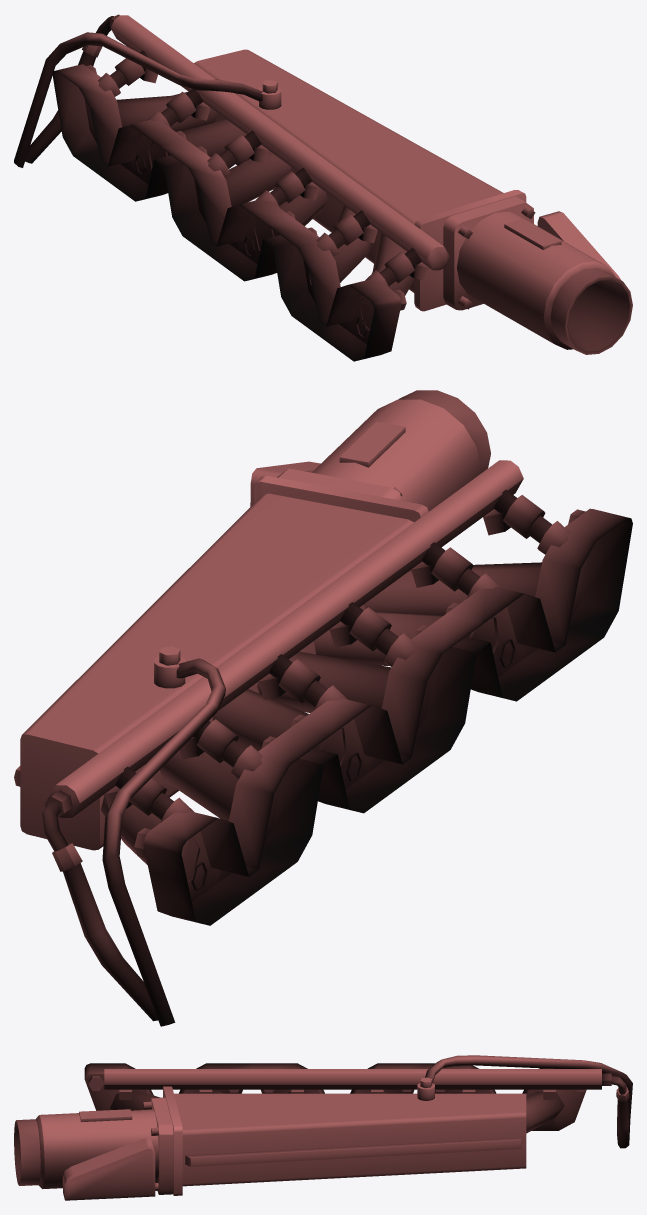
Rendered from JZ_IntakeManifoldTurbo3.fbx.
The picture shows the model from 3 angles, top to bottom: view 1: azimuth 30°, elevation 25°; view 2: azimuth 150°, elevation 25°; view 3: azimuth 270°, elevation 25°; orthographic projection. The views are drawn at different scales.
Visible parts, largest first — view 1: IntakeManifoldTurbo3; view 2: IntakeManifoldTurbo3; view 3: IntakeManifoldTurbo3.
Part boxes in pixels (x1=…): IntakeManifoldTurbo3: x1=14, y1=14, x2=632, y2=361; IntakeManifoldTurbo3: x1=14, y1=390, x2=632, y2=1026; IntakeManifoldTurbo3: x1=14, y1=1055, x2=632, y2=1200.
Size of the model in its own units: 32.24 by 18.24 by 85.75.
